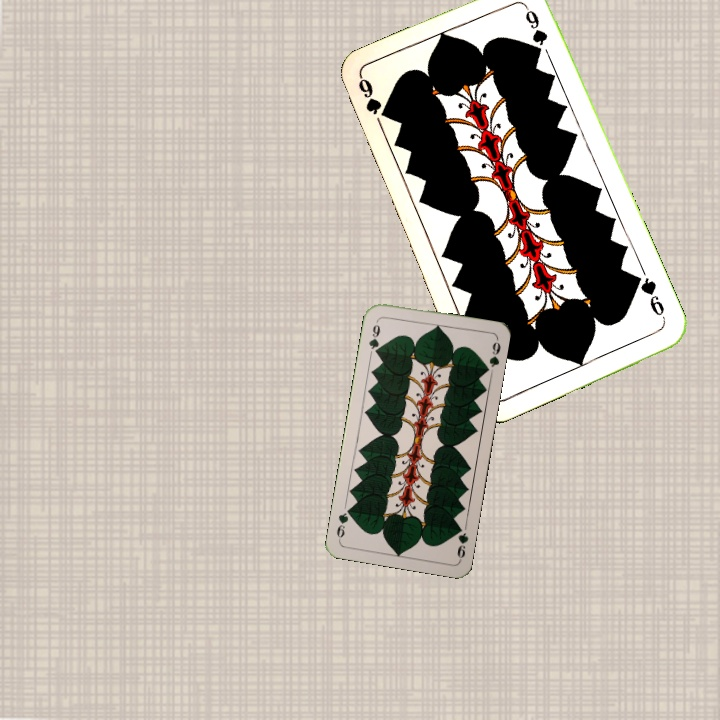G9: (631, 271, 669, 324), (354, 74, 386, 119), (452, 521, 471, 562), (365, 316, 383, 357)
